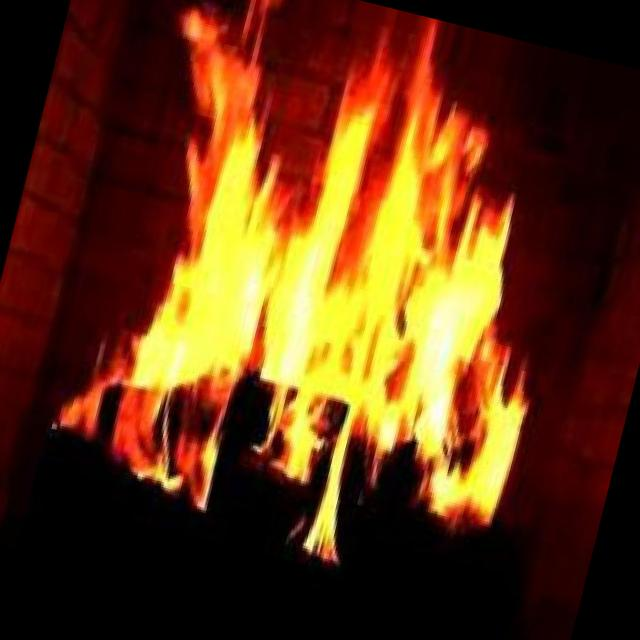Fire: (26, 0, 619, 604)
